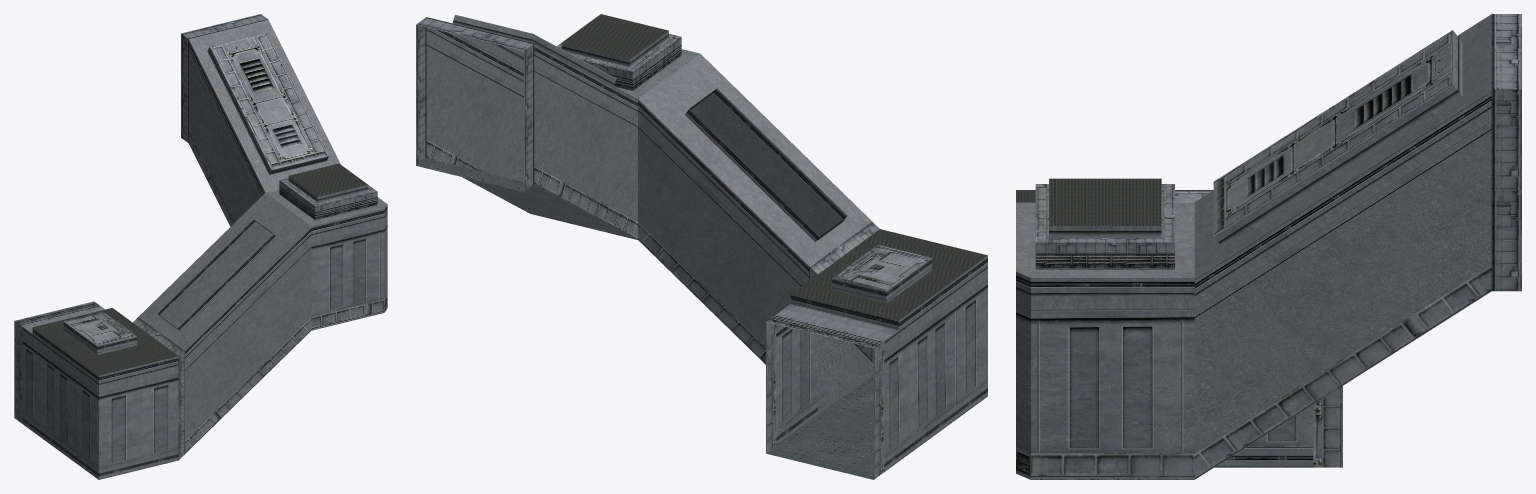
The model's file is poi_all_impl_bunker_s01_r8_ramp2_mesh_r8.fbx.
The picture shows the model from 3 angles, left to right: view 1: azimuth 30°, elevation 25°; view 2: azimuth 150°, elevation 25°; view 3: azimuth 270°, elevation 25°; orthographic projection. The views are drawn at different scales.
Visible parts, largest first — view 1: mesh_node; view 2: mesh_node; view 3: mesh_node.
Part boxes in pixels (box(x1,y1,x2,y2)): mesh_node: box(14, 14, 387, 479); mesh_node: box(416, 14, 987, 479); mesh_node: box(1016, 14, 1521, 479).
Size of the model in its own units: 11 by 10.75 by 8.51.
